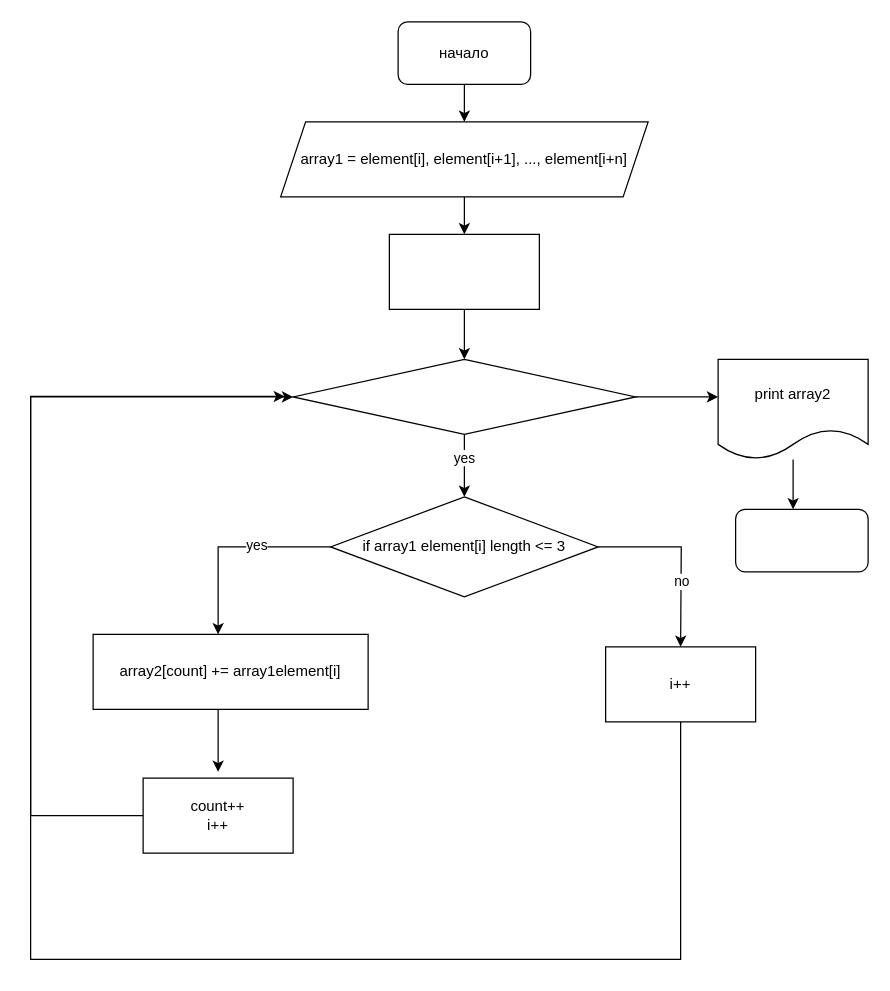
Image size: 890x991. Some labels were removed from this diagram. The centre of each missing label's shape, as x and y in pixels:
array2 count = 0 i=0: (463,271)
if array1 element[i] <= array1 length - 1: (464,396)
конец: (801,540)
